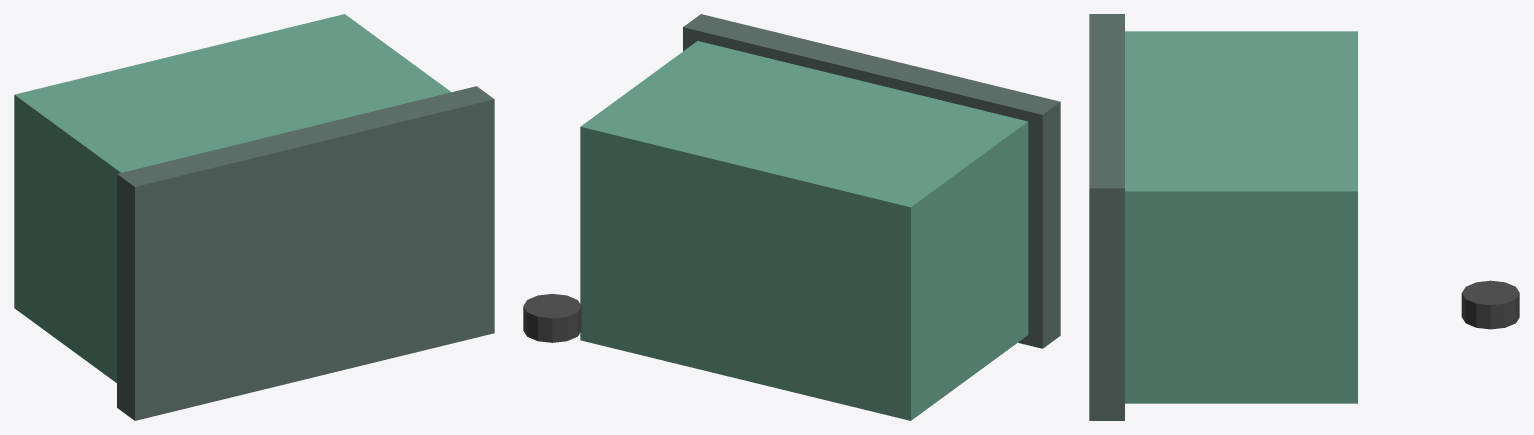
Rendered from street_dumpster.glb.
3 renders of one model, left to right at view 1: azimuth 30°, elevation 25°; view 2: azimuth 150°, elevation 25°; view 3: azimuth 270°, elevation 25°, orthographic.
Visible parts, largest first — view 1: dumpster_lid_dark, dumpster_body_green; view 2: dumpster_body_green, dumpster_lid_dark, dumpster_wheel; view 3: dumpster_body_green, dumpster_lid_dark, dumpster_wheel.
Part boxes in pixels (x1,y1,x2,y2): dumpster_lid_dark: [117, 86, 494, 420]; dumpster_body_green: [14, 14, 451, 382]; dumpster_body_green: [580, 41, 1028, 420]; dumpster_lid_dark: [683, 14, 1060, 348]; dumpster_wheel: [523, 294, 581, 342]; dumpster_body_green: [1125, 31, 1357, 403]; dumpster_lid_dark: [1089, 14, 1124, 420]; dumpster_wheel: [1461, 280, 1519, 329].
Size of the model in its own units: 1.85 by 1.15 by 1.93.
